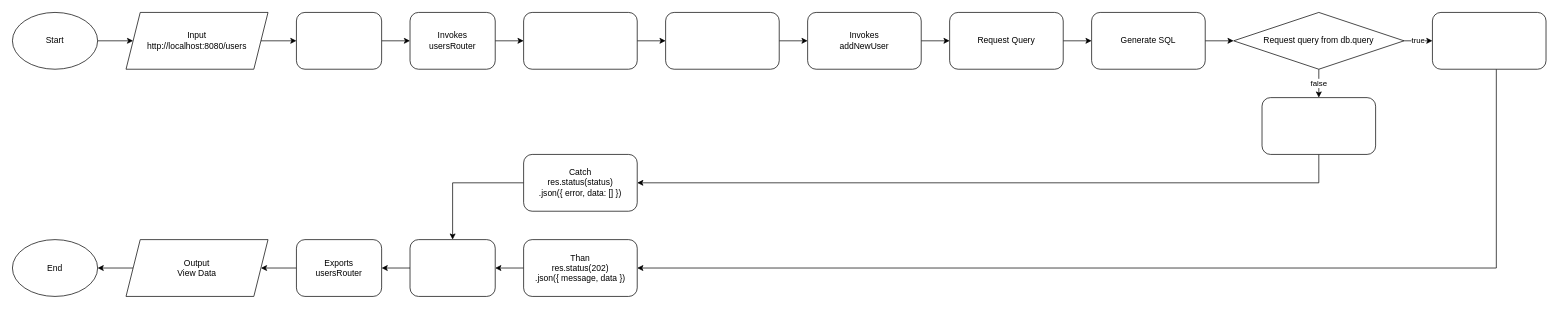
This 1558x309 diagram has some shape labels left out. The shapes that lost their labels are listed below. From the top down, each one's centre as x and y in pixels, then its label:
point 339,40: invokes mainRouter
point 580,40: Invokes usersController.postNewUser
point 722,40: Invokes postNewUser
point 1489,40: Resolve data: rows[0], message: "Account Created"
point 1318,125: Reject error, status: 500
point 452,267: Exports searchProducts
